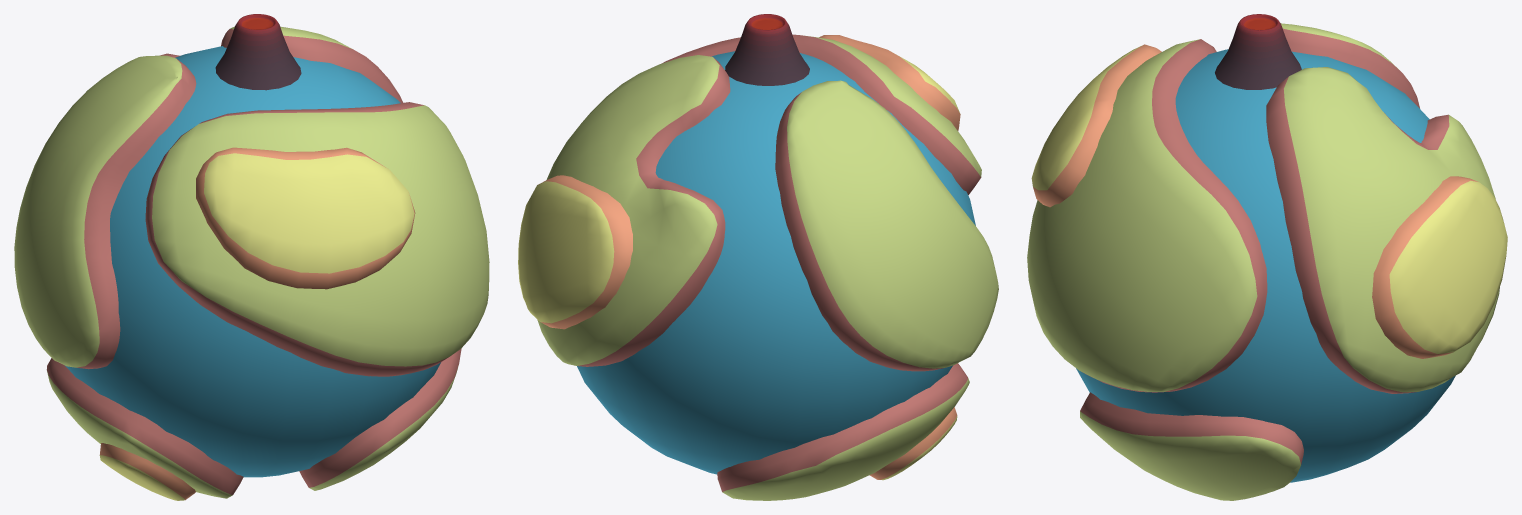
Rendered from terre_volcan.FBX.
The picture shows the model from 3 angles, left to right: view 1: azimuth 30°, elevation 25°; view 2: azimuth 150°, elevation 25°; view 3: azimuth 270°, elevation 25°; orthographic projection.
Visible parts, largest first — view 1: _terre_continent_00, _terre_eau_00, _terre_continent_01, _terre_continent_top_00, _terre_continent_04, _terre_continent_03, lvl1_volcan_01, _terre_continent_02, _terre_continent_top_02; view 2: _terre_eau_00, _terre_continent_01, _terre_continent_02, _terre_continent_top_01, _terre_continent_04, _terre_continent_00, lvl1_volcan_01, _terre_continent_top_00, _terre_continent_top_02; view 3: _terre_continent_00, _terre_continent_02, _terre_eau_00, _terre_continent_top_01, _terre_continent_03, _terre_continent_top_00, lvl1_volcan_01, _terre_continent_01.
Boxes of the visible parts, box(x1,y1,x2,y2) form: _terre_continent_00: box(145, 102, 489, 376); _terre_eau_00: box(65, 46, 440, 477); _terre_continent_01: box(14, 55, 196, 369); _terre_continent_top_00: box(196, 147, 415, 289); _terre_continent_04: box(46, 358, 243, 498); _terre_continent_03: box(299, 348, 461, 490); lvl1_volcan_01: box(215, 14, 301, 90); _terre_continent_02: box(160, 26, 403, 103); _terre_continent_top_02: box(99, 443, 195, 500); _terre_eau_00: box(577, 51, 975, 474); _terre_continent_01: box(775, 80, 998, 371); _terre_continent_02: box(537, 55, 730, 366); _terre_continent_top_01: box(518, 175, 632, 329); _terre_continent_04: box(717, 363, 969, 500); _terre_continent_00: box(661, 34, 981, 194); lvl1_volcan_01: box(725, 14, 809, 85); _terre_continent_top_00: box(819, 35, 960, 130); _terre_continent_top_02: box(869, 407, 957, 480); _terre_continent_00: box(1027, 39, 1267, 392); _terre_continent_02: box(1266, 67, 1499, 393); _terre_eau_00: box(1076, 49, 1455, 482); _terre_continent_top_01: box(1372, 176, 1507, 358); _terre_continent_03: box(1080, 392, 1303, 500); _terre_continent_top_00: box(1031, 44, 1161, 207); lvl1_volcan_01: box(1215, 14, 1301, 89); _terre_continent_01: box(1281, 23, 1419, 108).
Bounding box in the file's own units: 1005 × 1064 × 1018.
